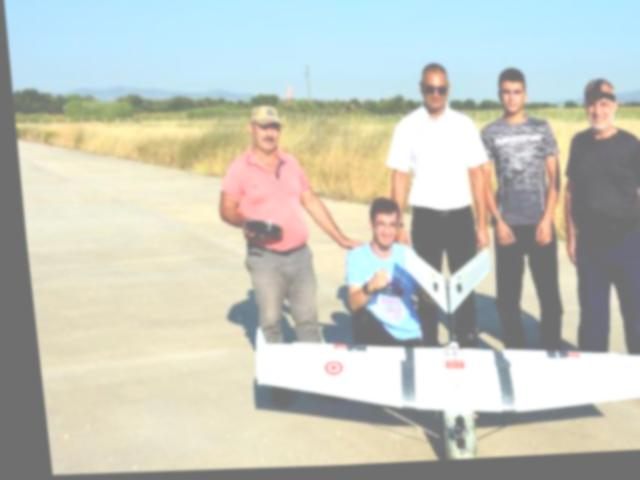iha: (227, 231, 640, 472)
